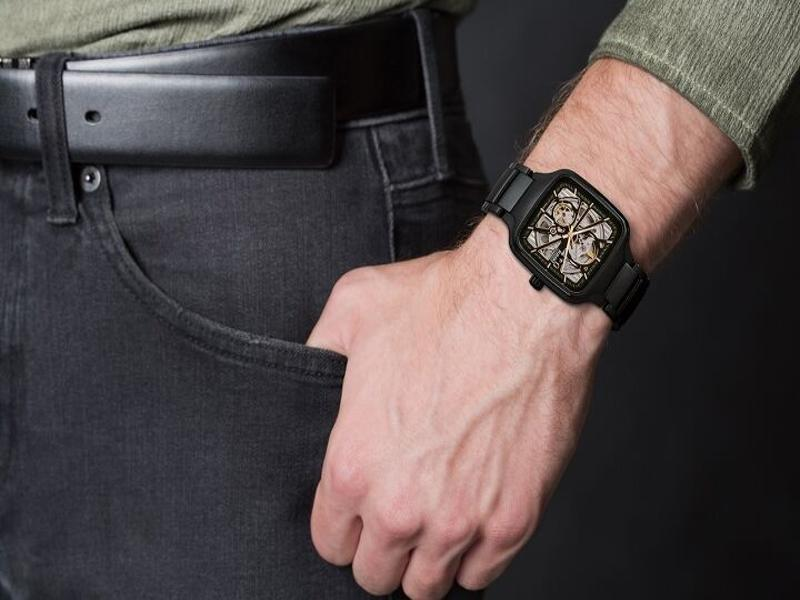watch: (480, 160, 652, 322)
